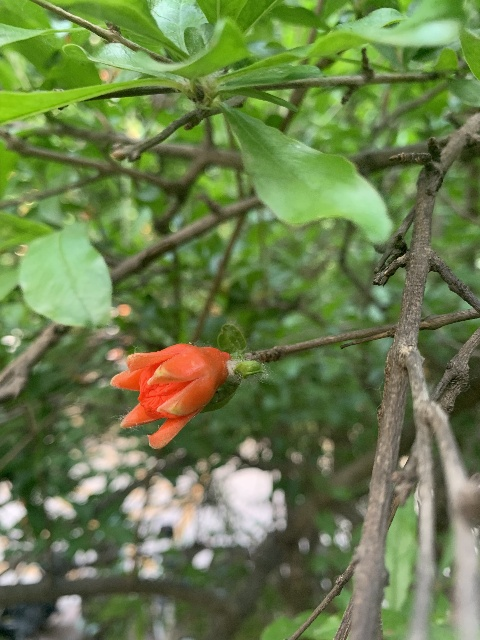flower: (110, 343, 230, 449)
